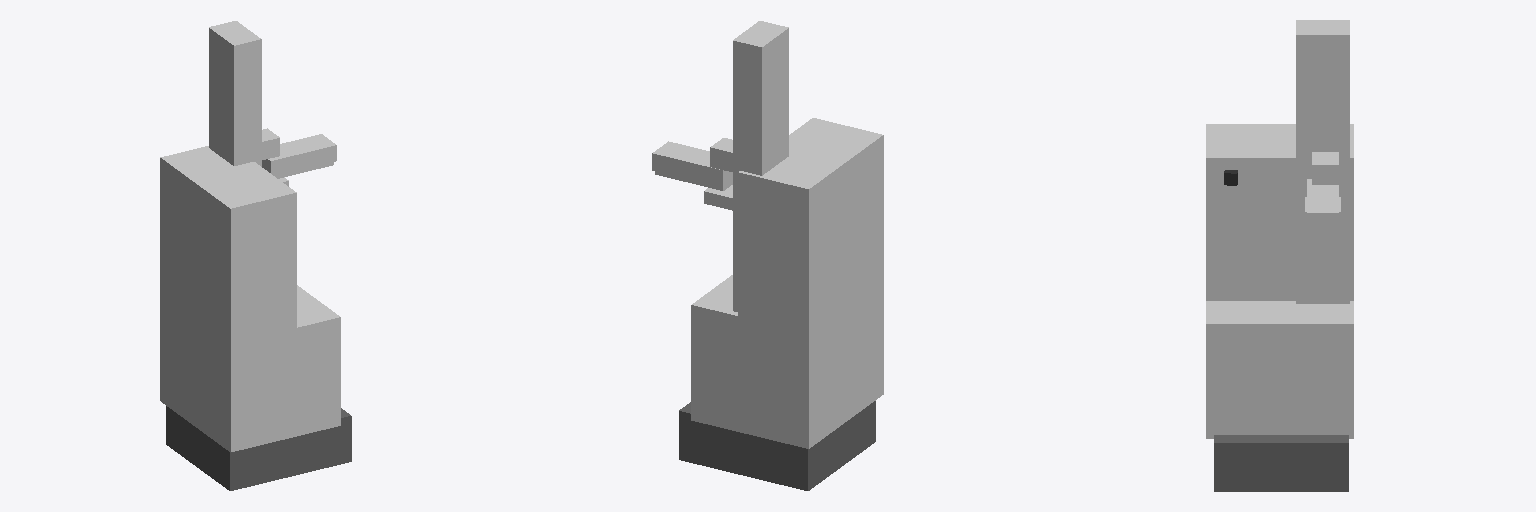
robot.urdf — kevin:
<?xml version="1.0" ?>
<!-- =================================================================================== -->
<!-- |    This document was autogenerated by xacro from robots/kevin_std.urdf.xacro    | -->
<!-- |    EDITING THIS FILE BY HAND IS NOT RECOMMENDED                                 | -->
<!-- =================================================================================== -->
<robot name="kevin">
  <!-- ***************** -->
  <!-- Imported elements -->
  <!-- ***************** -->
  <!-- First we import all posible elements defined in the urdf.xacro files. All these elements are defined as macro:xacros -->
  <!-- Source: https://en.wikipedia.org/wiki/List_of_moments_of_inertia-->
  <!-- source en.wikipedia.org/wiki/List_of_moments_of_inertia-->
  <!-- This file unifies all sensors that can be used on simulation, defined as xacro:macros -->
  <!-- <xacro:macro name="sensor_ultrasonic_a21_gazebo">
    <gazebo reference="${prefix}_link">
			<xacro:if value="${gpu}">
        <xacro:property name="ray_type" value="gpu_ray" />
        <xacro:property name="plugin_lib" value="libgazebo_ros_gpu_laser.so" />
      </xacro:if>
      <xacro:unless value="${gpu}">
        <xacro:property name="ray_type" value="ray" />
        <xacro:property name="plugin_lib" value="libgazebo_ros_laser.so" />
      </xacro:unless>
			<sensor type="${ray_type}" name="${prefix}_sensor">
				<pose>0 0 0 0 0 0</pose>
				<visualize>false</visualize>
				<update_rate>40</update_rate>
				<ray>
					<scan>
						<horizontal>
							<samples>1081</samples>
							<resolution>1</resolution>
							<min_angle>${min_angle}</min_angle>
							<max_angle>${max_angle}</max_angle>
						</horizontal>
					</scan>
					<range>
						<min>0.06</min>
						<max>20.0</max>
						<! resolution>0.004363323</resolution >
						<resolution>0.004359297</resolution>
						<! resolution>0.001</resolution >
					</range>
					<noise>
						<type>gaussian</type>
						<mean>0.0</mean>
						<stddev>0.01</stddev>
					</noise>
				</ray>
				<plugin name="${prefix}_controller" filename="${plugin_lib}">
					<topicName>${prefix_topic}/scan</topicName>
					<frameName>/${prefix}_link</frameName>
				</plugin>
			</sensor>
	</gazebo>
  </xacro:macro>
  -->
  <!-- Includes -->
  <!-- Includes -->
  <!-- Gazebo ros control pluggins -->
  <!-- <xacro:ros2_control namespace="robot" config_controllers="''"/> -->
  <!-- BASE FOOTPRINT -->
  <link name="robot_base_footprint"/>
  <joint name="robot_base_footprint_joint" type="fixed">
    <parent link="robot_base_footprint"/>
    <child link="robot_base_link"/>
    <origin rpy="0 0 0" xyz="0 0 0.07"/>
  </joint>
  <!-- BASE LINK -->
  <link name="robot_base_link">
    <visual>
      <origin rpy="1.5707963267948966 0 1.5707963267948966" xyz="0 0 0.0945"/>
      <geometry>
        <box size="0.5 0.2 0.55"/>
      </geometry>
      <material name="darkgrey">
        <color rgba="0.45 0.45 0.45 1"/>
      </material>
    </visual>
    <collision>
      <origin rpy="1.5707963267948966 0 1.5707963267948966" xyz="0 0 0.0945"/>
      <geometry>
        <box size="0.5 0.2 0.55"/>
      </geometry>
    </collision>
    <inertial>
      <origin rpy="0 0 0" xyz="-0.07 0 0.10"/>
      <mass value="49.0"/>
      <inertia ixx="1.15" ixy="0.0" ixz="0.0" iyy="1.68" iyz="0.0" izz="2.25"/>
    </inertial>
  </link>
  <joint name="robot_imu_base_joint" type="fixed">
    <axis xyz="1 0 0"/>
    <origin rpy="0 0 0" xyz="0.182 0.0855 0.1265"/>
    <parent link="robot_base_link"/>
    <child link="robot_imu_base_link"/>
  </joint>
  <link name="robot_imu_base_link">
    
  </link>
  <joint name="robot_imu_joint" type="fixed">
    <axis xyz="1 0 0"/>
    <origin xyz="0.00671 0.0047 0.0059"/>
    <parent link="robot_imu_base_link"/>
    <child link="robot_imu_link"/>
  </joint>
  <link name="robot_imu_link">
	  </link>
  <gazebo reference="robot_imu_base_link">
    <material>Gazebo/Red</material>
  </gazebo>
  <gazebo>
    <plugin filename="libhector_gazebo_ros_imu.so" name="robot_imu_controller">
      <alwaysOn>true</alwaysOn>
      <topicName>imu/data</topicName>
      <serviceName>robot_imuimu/service</serviceName>
      <bodyName>robot_imu_link</bodyName>
      <frameId>robot_imu_link</frameId>
      <updateRate>50.0</updateRate>
      <gaussianNoise>0.00</gaussianNoise>
      <yawOffset>0.0</yawOffset>
      <yawDrift>0.0</yawDrift>
      <yawGaussianNoise>0.0</yawGaussianNoise>
      <!-- angular velocities parameters -->
      <rateOffset>0.0 0.0 0.0</rateOffset>
      <rateDrift>0.0 0.0 0.0</rateDrift>
      <rateGaussianNoise>0.0 0.0 0.0</rateGaussianNoise>
      <!-- linear accelerations parameters -->
      <accelOffset>0.0 0.0 0.0</accelOffset>
      <accelDrift>0.0 0.0 0.0</accelDrift>
      <accelGaussianNoise>0.0 0.0 0.0</accelGaussianNoise>
    </plugin>
  </gazebo>
 
  <!-- 2d laser -->
  <!-- <xacro:sensor_sick_nanoscan3 prefix="${prefix}front_laser" parent="${prefix}base_link" max_angle="${radians(120)}" min_angle="${radians(-120)}" gpu="false">
        <origin xyz="0.26226 0.0 0.1705" rpy="0 ${M_PI} ${M_PI}"/>
      </xacro:sensor_sick_nanoscan3> -->
  <joint name="robot_housing_joint" type="fixed">
    <parent link="robot_base_link"/>
    <child link="robot_housing_link"/>
    <origin rpy="0 0 0" xyz="-0.04 -0.0045 -0.067"/>
  </joint>
  <joint name="robot_housing_joint2" type="fixed">
    <parent link="robot_base_link"/>
    <child link="robot_housing_link_bottom"/>
    <origin rpy="0 0 0" xyz="-0.04 -0.0045 -0.067"/>
  </joint>
  <link name="robot_housing_link">
    <visual>
      <origin rpy="0 0 -1.5707963267948966" xyz="-0.1 0 0.8"/>
      <geometry>
        <box size="0.55 0.3 1"/>
      </geometry>
      <material name="white">
        <color rgba="0.85 0.85 0.85 1"/>
      </material>
    </visual>
    <collision>
      <origin rpy="0 0 -1.5707963267948966" xyz="-0.1 0 0.8"/>
      <geometry>
        <box size="0.55 0.3 1"/>
      </geometry>
    </collision>
  </link>
  <link name="robot_housing_link_bottom">
    <visual>
      <origin rpy="0 0 -1.5707963267948966" xyz="0 0 0.48"/>
      <geometry>
        <box size="0.55 0.5 0.47"/>
      </geometry>
      <material name="white">
        <color rgba="0.85 0.85 0.85 1"/>
      </material>
    </visual>
    <collision>
      <origin rpy="0 0 -1.5707963267948966" xyz="0 0 0.48"/>
      <geometry>
        <box size="0.55 0.5 0.47"/>
      </geometry>
    </collision>
  </link>
  <joint name="robot_safety_button_joint" type="fixed">
    <parent link="robot_housing_link"/>
    <child link="robot_safety_button_link"/>
    <origin rpy="0 0 0" xyz="0.09 0.06 1.13"/>
  </joint>
  <link name="robot_safety_button_link">
    <collision>
      <origin rpy="0 0 0" xyz="0 0 0"/>
      <geometry>
        <box size="0.04 0.05 0.05"/>
      </geometry>
    </collision>
  </link>
  <!-- Materials -->
  <material name="white">
    <color rgba="1 1 1 1"/>
  </material>
  <material name="aluminum">
    <color rgba="0.6 0.6 0.6 1"/>
  </material>
  <joint name="robot_arm_base_joint" type="fixed">
    <parent link="robot_base_link"/>
    <child link="robot_arm_base_link"/>
    <origin rpy="0 0 0" xyz="-0.095 0.1544 0.6495"/>
  </joint>
  <link name="robot_arm_base_link">
    <visual>
      <origin rpy="0 0 0" xyz="0.076 0 0.555"/>
      <geometry>
       <box size="0.125 0.20 1.1"/>
      </geometry>
      <material name="white"/>
    </visual>
    <collision>
      <!-- <origin xyz="0.025 0 0.555" rpy="0 0 0"/> -->
      <origin rpy="0 0 0" xyz="0.076 0 0.555"/>
      <geometry>
        <!-- <box size="0.19 0.17 1.1"/> -->
        <box size="0.125 0.20 1.1"/>
      </geometry>
    </collision>
    <inertial>
      <origin rpy="0 0 0" xyz="0.076 0 0.555"/>
      <mass value="1"/>
      <inertia ixx="0.001666666666666667" ixy="0" ixz="0" iyy="0.001666666666666667" iyz="0" izz="0.001666666666666667"/>
    </inertial>
  </link>
  <joint name="robot_arm_column_joint" type="prismatic">
    <parent link="robot_arm_base_link"/>
    <child link="robot_arm_column_link"/>
    <axis xyz="0 0 1"/>
    <origin rpy="0 0 0" xyz="0.03005 -0.0198 0.17535"/>
    <limit effort="10000.0" lower="0.0015" upper="0.7015" velocity="1.0"/>
    <dynamics damping="0.01" friction="0.1"/>
  </joint>
  <link name="robot_arm_column_link">
    <visual>
      <origin rpy="0 0 0" xyz="0.162 0.03 0.06"/>
      <geometry>
        <box size="0.13 0.1 0.08"/>
      </geometry>
      <material name="white"/>
    </visual>
    <collision>
      <origin rpy="0 0 0" xyz="0.162 0.03 0.06"/>
      <geometry>
        <box size="0.13 0.1 0.08"/>
      </geometry>
    </collision>
    <inertial>
      <origin rpy="0 0 0" xyz="0.162 0.03 0.06"/>
      <mass value="1"/>
      <inertia ixx="0.001666666666666667" ixy="0" ixz="0" iyy="0.001666666666666667" iyz="0" izz="0.001666666666666667"/>
    </inertial>
  </link>
  <joint name="robot_arm_controller_origin_joint" type="fixed">
    <parent link="robot_arm_base_link"/>
    <child link="robot_arm_controller_origin_link"/>
    <origin rpy="0 0 0" xyz="0.203 0 0.094"/>
  </joint>
  <link name="robot_arm_controller_origin_link"/>
  <joint name="robot_arm_inner_joint" type="revolute">
    <parent link="robot_arm_column_link"/>
    <child link="robot_arm_inner_link"/>
    <axis xyz="0 0 1"/>
    <origin rpy="0 0 0" xyz="0.173001 0.02 0.0235"/>
    <limit effort="7000.0" lower="-1.5707963267948966" upper="1.5707963267948966" velocity="1.5707963267948966"/>
    <dynamics damping="0.01" friction="0.1"/>
  </joint>
  <link name="robot_arm_inner_link">
    <visual>
      <origin rpy="0 0 0" xyz="0.15 0 -0.04"/>
      <geometry>
        <box size="0.30 0.12 0.07"/>
      </geometry>
      <material name="white"/>
    </visual>
    <collision>
      <!-- <origin xyz="0 0 0" rpy="0 0 0"/> -->
      <origin rpy="0 0 0" xyz="0.15 0 -0.04"/>
      <geometry>
        <box size="0.30 0.12 0.07"/>
      </geometry>
    </collision>
    <inertial>
      <origin rpy="0 0 0" xyz="0 0 0"/>
      <mass value="1"/>
      <inertia ixx="0.001666666666666667" ixy="0" ixz="0" iyy="0.001666666666666667" iyz="0" izz="0.001666666666666667"/>
    </inertial>
  </link>
  <joint name="robot_arm_outer_joint" type="revolute">
    <parent link="robot_arm_inner_link"/>
    <child link="robot_arm_outer_link"/>
    <axis xyz="0 0 1"/>
    <origin rpy="0 0 0" xyz="0.302 0 -0.072285"/>
    <limit effort="7000.0" lower="0.2617993877991494" upper="6.021385919380437" velocity="3.141592653589793"/>
    <dynamics damping="0.01" friction="0.1"/>
  </joint>
  <link name="robot_arm_outer_link">
    <visual>
      <origin rpy="0 0 0" xyz="0.145 0 -0.01"/>
      <geometry>
        <box size="0.29 0.07 0.04"/>
      </geometry>
      <material name="white"/>
    </visual>
    <collision>
      <!-- <origin xyz="0 0 0" rpy="0 0 0"/> -->
      <origin rpy="0 0 0" xyz="0.145 0 -0.01"/>
      <geometry>
        <box size="0.29 0.07 0.04"/>
      </geometry>
    </collision>
    <inertial>
      <origin rpy="0 0 0" xyz="0.145 0 -0.01"/>
      <mass value="1"/>
      <inertia ixx="0.001666666666666667" ixy="0" ixz="0" iyy="0.001666666666666667" iyz="0" izz="0.001666666666666667"/>
    </inertial>
  </link>
  <joint name="robot_arm_wrist_joint" type="revolute">
    <parent link="robot_arm_outer_link"/>
    <child link="robot_arm_wrist_link"/>
    <axis xyz="0 0 1"/>
    <origin rpy="0 0 0" xyz="0.289 0 -0.032942"/>
    <limit effort="7000.0" lower="-16.755160819145562" upper="16.755160819145562" velocity="6.283185307179586"/>
    <dynamics damping="0.01" friction="0.1"/>
  </joint>
  <link name="robot_arm_wrist_link">
    <visual>
      <origin rpy="0 0 0" xyz="0 0 -0.025"/>
      <geometry>
         <box size="0.132 0.132 0.05"/>
      </geometry>
      <material name="white"/>
    </visual>
    <collision>
      <!-- <origin xyz="0 0 0" rpy="0 0 0"/> -->
      <origin rpy="0 0 0" xyz="0 0 -0.025"/>
      <geometry>
        <box size="0.132 0.132 0.05"/>
      </geometry>
    </collision>
    <inertial>
      <origin rpy="0 0 0" xyz="0 0 -0.025"/>
      <mass value="1"/>
      <inertia ixx="0.001666666666666667" ixy="0" ixz="0" iyy="0.001666666666666667" iyz="0" izz="0.001666666666666667"/>
    </inertial>
  </link>
  <joint name="robot_arm_camera_base_joint" type="fixed">
    <parent link="robot_arm_wrist_link"/>
    <child link="robot_arm_camera_base_link"/>
    <origin rpy="-1.5707963267948966 0 0" xyz="-0.018 0.0375 -0.025"/>
  </joint>
  <link name="robot_arm_camera_base_link"/>
  <joint name="robot_arm_camera_link_joint" type="fixed">
    <parent link="robot_arm_camera_base_link"/>
    <child link="robot_arm_camera_link"/>
    <origin rpy="1.5707963267948966 0 0" xyz="-0.025 0 0.0145"/>
  </joint>
  <link name="robot_arm_camera_link"/>
  <joint name="robot_arm_camera_optical_joint" type="fixed">
    <parent link="robot_arm_camera_link"/>
    <child link="robot_arm_camera_optical_link"/>
    <origin rpy="0 -1.5707963267948966 0" xyz="0.0 0.0 0.0"/>
  </joint>
  <link name="robot_arm_camera_optical_link"/>
  <joint name="robot_arm_camera_view_joint" type="fixed">
    <parent link="robot_arm_camera_link"/>
    <child link="robot_arm_camera_view_link"/>
    <origin rpy="0 0 3.141592653589793" xyz="-0.09 0 0"/>
  </joint>
  <link name="robot_arm_camera_view_link"/>
  <!-- GRIPPER FINGERS -->
  <joint name="robot_arm_tool_base_joint" type="fixed">
    <parent link="robot_arm_wrist_link"/>
    <child link="robot_arm_tool_base_link"/>
    <origin rpy="0.0 0.0 0.0" xyz="0.0918 0.0 -0.04269"/>
  </joint>
  <link name="robot_arm_tool_base_link"/>
  <joint name="robot_arm_tool_joint" type="fixed">
    <parent link="robot_arm_tool_base_link"/>
    <child link="robot_arm_tool_link"/>
    <origin rpy="0.0 0.0 0.0" xyz="0.078573 0.0 -0.03"/>
  </joint>
  <link name="robot_arm_tool_link"/>
  <joint name="robot_arm_gripper_joint" type="prismatic">
    <parent link="robot_arm_wrist_link"/>
    <child link="robot_arm_left_finger_link"/>
    <axis xyz="0 1 0"/>
    <origin rpy="0 0 0" xyz="0.078573 0 -0.04269"/>
    <limit effort="1000.0" lower="0.035" upper="0.0675" velocity="1.5"/>
    <dynamics damping="0.7" friction="0.1"/>
  </joint>
  <link name="robot_arm_left_finger_link">
    <visual>
      <origin rpy="0 0 0" xyz="0.09 0.003 -0.01"/>
      <geometry>
        <box size="0.22 0.017 0.017"/>
      </geometry>
      <material name="aluminum"/>
    </visual>
    <collision>
      <origin rpy="0 0 0" xyz="0.09 0.003 -0.01"/>
      <geometry>
        <box size="0.22 0.017 0.017"/>
      </geometry>
    </collision>
    <inertial>
      <origin rpy="0 0 0" xyz="0.09 0.003 -0.01"/>
      <mass value="1"/>
      <inertia ixx="0.001666666666666667" ixy="0" ixz="0" iyy="0.001666666666666667" iyz="0" izz="0.001666666666666667"/>
    </inertial>
  </link>
  <joint name="robot_arm_gripper_mirror_joint" type="prismatic">
    <parent link="robot_arm_wrist_link"/>
    <child link="robot_arm_right_finger_link"/>
    <axis xyz="0 -1 0"/>
    <origin rpy="0 0 0" xyz="0.078573 0 -0.04269"/>
    <limit effort="1000.0" lower="0.035" upper="0.0675" velocity="1.5"/>
    <mimic joint="robot_arm_gripper_joint" multiplier="1"/>
  </joint>
  <link name="robot_arm_right_finger_link">
    <visual>
      <origin rpy="0 0 0" xyz="0.09 -0.003 -0.01"/>
      <geometry>
        <box size="0.22 0.017 0.017"/>
      </geometry>
      <material name="aluminum"/>
    </visual>
    <collision>
      <origin rpy="0 0 0" xyz="0.09 -0.003 -0.01"/>
      <geometry>
        <box size="0.22 0.017 0.017"/>
      </geometry>
    </collision>
    <inertial>
      <origin rpy="0 0 0" xyz="0.09 -0.003 -0.01"/>
      <mass value="1"/>
      <inertia ixx="0.001666666666666667" ixy="0" ixz="0" iyy="0.001666666666666667" iyz="0" izz="0.001666666666666667"/>
    </inertial>
  </link>
  <!-- Transmission -->
  <transmission name="robot_arm_column_transmission">
    <type>transmission_interface/SimpleTransmission</type>
    <joint name="robot_arm_column_joint">
      <hardwareInterface>hardware_interface/EffortJointInterface</hardwareInterface>
    </joint>
    <actuator name="robot_arm_column_motor">
      <mechanicalReduction>1</mechanicalReduction>
    </actuator>
  </transmission>
  <transmission name="robot_arm_inner_transmission">
    <type>transmission_interface/SimpleTransmission</type>
    <joint name="robot_arm_inner_joint">
      <hardwareInterface>hardware_interface/EffortJointInterface</hardwareInterface>
    </joint>
    <actuator name="robot_arm_inner_motor">
      <mechanicalReduction>1</mechanicalReduction>
    </actuator>
  </transmission>
  <transmission name="robot_arm_outer_transmission">
    <type>transmission_interface/SimpleTransmission</type>
    <joint name="robot_arm_outer_joint">
      <hardwareInterface>hardware_interface/EffortJointInterface</hardwareInterface>
    </joint>
    <actuator name="robot_arm_outer_motor">
      <mechanicalReduction>1</mechanicalReduction>
    </actuator>
  </transmission>
  <transmission name="robot_arm_wrist_transmission">
    <type>transmission_interface/SimpleTransmission</type>
    <joint name="robot_arm_wrist_joint">
      <hardwareInterface>hardware_interface/EffortJointInterface</hardwareInterface>
    </joint>
    <actuator name="robot_arm_wrist_motor">
      <mechanicalReduction>1</mechanicalReduction>
    </actuator>
  </transmission>
  <transmission name="robot_arm_gripper_transmission">
    <type>transmission_interface/SimpleTransmission</type>
    <joint name="robot_arm_gripper_joint">
      <hardwareInterface>hardware_interface/EffortJointInterface</hardwareInterface>
    </joint>
    <actuator name="robot_arm_gripper_motor">
      <mechanicalReduction>1</mechanicalReduction>
    </actuator>
  </transmission>
  <joint name="robot_top_rgbd_camera_base_joint" type="fixed">
    <origin rpy="1.5707963267948966 0 0" xyz="0.0131 0.05609 1.1484"/>
    <parent link="robot_base_link"/>
    <child link="robot_top_rgbd_camera_base_link"/>
  </joint>
  <link name="robot_top_rgbd_camera_base_link"/>
  <!-- camera body, with origin at bottom screw mount -->
  
  
  <joint name="robot_top_3d_laser_base_joint" type="fixed">
    <origin rpy="-1.5707963267948966 0 -1.7016960206944713" xyz="-0.05503 -0.17575 1.16009"/>
    <parent link="robot_base_link"/>
    <child link="robot_top_3d_laser_base_link"/>
  </joint>
  <link name="robot_top_3d_laser_base_link">
    <visual>
      <!-- origin xyz="0 0 0" rpy="0 0 1.5708"/ -->
      <origin rpy="0 0 1.5708" xyz="0 0 0.07"/>
      <geometry>
       <box size="0.05 0.05 0.05"/>
      </geometry>
      <material name="blackgray_color">
        <color rgba="0.25 0.25 0.25 1"/>
      </material>
    </visual>
    <collision>
      <origin rpy="0 0 1.5708" xyz="0 0 0.07"/>
      <geometry>
        <box size="0.05 0.05 0.05"/>
      </geometry>
    </collision>
    <inertial>
      <!-- The following are not reliable values, and should not be used for modeling -->
      <mass value="0.92"/>
      <origin xyz="0 0 0.055"/>
      <inertia ixx="0.0018722766666666665" ixy="0" ixz="0" iyy="0.0018722766666666665" iyz="0" izz="0.0018892200000000003"/>
    </inertial>
  </link>
  <joint name="robot_top_3d_laser_joint" type="fixed">
    <parent link="robot_top_3d_laser_base_link"/>
    <child link="robot_top_3d_laser_link"/>
    <origin rpy="0 0 0" xyz="0 0 0.09427"/>
  </joint>
  <link name="robot_top_3d_laser_link"/>
  <gazebo reference="robot_top_3d_laser_base_link">
    <visual>
      <material>
        <ambient>0.5 0.5 0.5 1.0</ambient>
        <diffuse>0.250754 0.250754 0.250754 1.0</diffuse>
        <specular>0.2508273 0.2508273 0.2508273 1.0</specular>
        <emissive>0.0 0.0 0.0 0.0</emissive>
      </material>
    </visual>
  </gazebo>
  <gazebo reference="robot_top_3d_laser_link">
    <visual>
      <material>
        <ambient>1.2 0.2 0.2 1.0</ambient>
        <diffuse>0.250754 0.250754 0.250754 1.0</diffuse>
        <specular>0.2508273 0.2508273 0.2508273 1.0</specular>
        <emissive>0.0 0.0 0.0 0.0</emissive>
      </material>
    </visual>
    <sensor name="robot_top_3d_laser_sensor" type="gpu_ray">
      <pose>0 0 0 0 0 0.0</pose>
      <visualize>false</visualize>
      <update_rate>30</update_rate>
      <ray>
        <scan>
          <horizontal>
            <!-- for a high quality simulation -->
            <samples>720</samples>
            <min_angle>-3.141592653589793</min_angle>
            <max_angle>3.141592653589793</max_angle>
          </horizontal>
          <vertical>
            <samples>32</samples>
            <min_angle>-0.08726646259971647</min_angle>
            <!-- bpearl has 90 degrees of vertical field of view-->
            <max_angle> 1.2217304763960306</max_angle>
          </vertical>
        </scan>
        <range>
          <min>0.12</min>
          <max>10</max>
          <resolution>0.01</resolution>
        </range>
        <noise>
          <type>none</type>
        </noise>
      </ray>
      <plugin filename="libgazebo_ros_velodyne_gpu_laser.so" name="robot_top_3d_laser_controller">
        <topicName>top_3d_laser/points</topicName>
        <frameName>/robot_top_3d_laser_link</frameName>
        <gaussianNoise>0.008</gaussianNoise>
      </plugin>
    </sensor>
  </gazebo>
</robot>

--- Facts derived from the render (not from the file) ---
The picture shows the robot from 3 angles, left to right: view 1: azimuth 30°, elevation 25°; view 2: azimuth 150°, elevation 25°; view 3: azimuth 270°, elevation 25°; orthographic projection.
Robot: kevin — 24 links, 23 joints (3 revolute, 3 prismatic, 17 fixed); root link robot_base_footprint; default pose: joints at zero except 4 at the middle of their limits (robot_arm_column_joint = 0.3515, robot_arm_outer_joint = 3.14, robot_arm_gripper_joint = 0.0512, robot_arm_gripper_mirror_joint = 0.0512).
Links seen in each view (by area): view 1: robot_housing_link, robot_housing_link_bottom, robot_base_link, robot_arm_base_link, robot_arm_inner_link; view 2: robot_housing_link, robot_housing_link_bottom, robot_arm_base_link, robot_base_link, robot_arm_inner_link, robot_arm_column_link, robot_arm_wrist_link; view 3: robot_housing_link_bottom, robot_housing_link, robot_arm_base_link, robot_base_link, robot_arm_inner_link, robot_arm_column_link.
Boxes of the visible links, box(x1,y1,x2,y2) form: robot_housing_link: box(160, 146, 296, 434); robot_housing_link_bottom: box(160, 285, 340, 452); robot_base_link: box(166, 406, 351, 490); robot_arm_base_link: box(209, 21, 261, 166); robot_arm_inner_link: box(262, 134, 336, 175); robot_housing_link: box(738, 118, 883, 435); robot_housing_link_bottom: box(691, 275, 883, 448); robot_arm_base_link: box(733, 21, 788, 311); robot_base_link: box(679, 401, 875, 490); robot_arm_inner_link: box(652, 141, 732, 187); robot_arm_column_link: box(710, 138, 732, 171); robot_arm_wrist_link: box(704, 185, 732, 210); robot_housing_link_bottom: box(1206, 301, 1353, 438); robot_housing_link: box(1206, 124, 1353, 300); robot_arm_base_link: box(1296, 20, 1349, 303); robot_base_link: box(1214, 435, 1348, 491); robot_arm_inner_link: box(1307, 179, 1338, 229); robot_arm_column_link: box(1312, 152, 1338, 184).
Bounding box of the posed robot: 0.7001 × 0.55 × 1.76 m (x, y, z).
Geometry: primitives only (box / cylinder / sphere), no mesh files.
